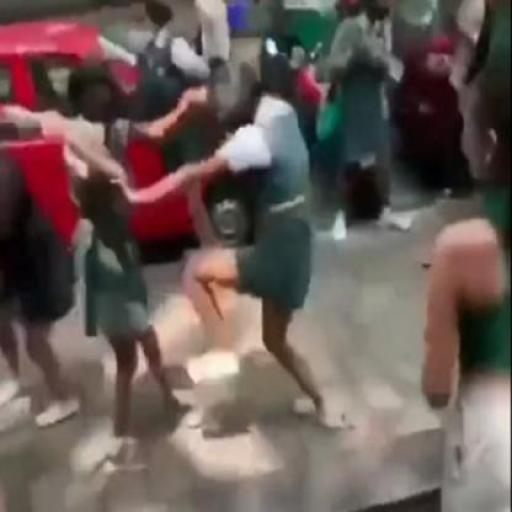Fighting: (57, 50, 349, 460)
